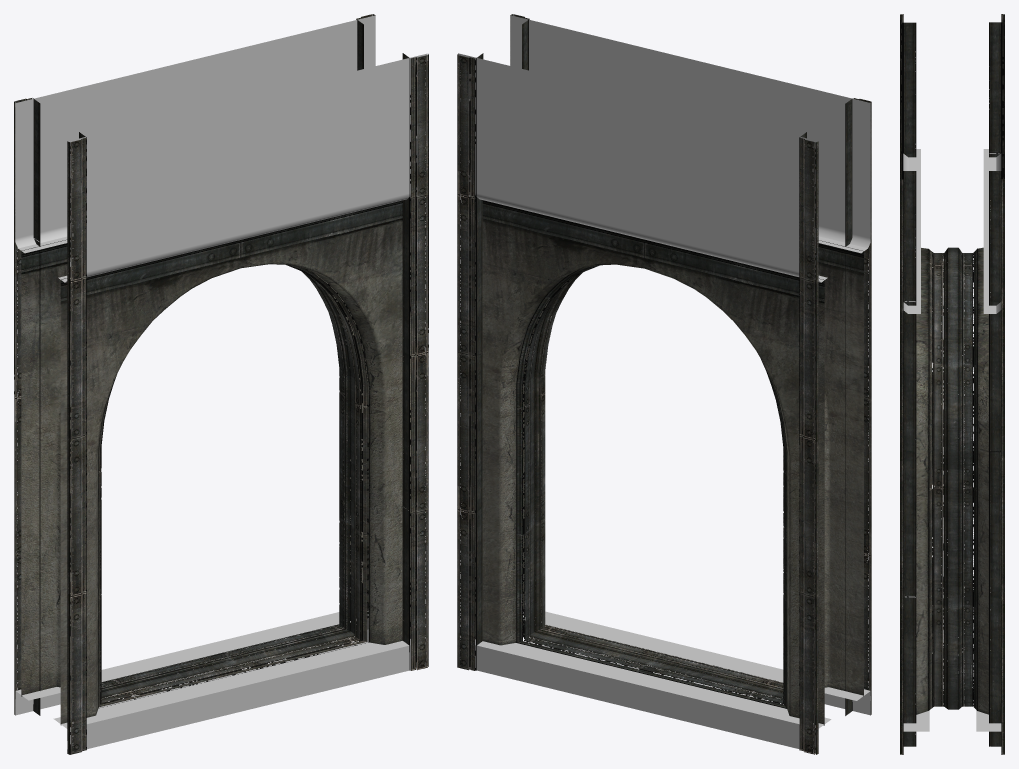
The model's file is tesla_modules1_doorframe_01.dae.
3 views of the same model, side by side, from view 1: azimuth 30°, elevation 25°; view 2: azimuth 150°, elevation 25°; view 3: azimuth 270°, elevation 25° (orthographic). The views are drawn at different scales.
Visible parts, largest first — view 1: dooframe_01_stone, doorframe_01_arch, doorframe_01_metal; view 2: dooframe_01_stone, doorframe_01_arch, doorframe_01_metal; view 3: doorframe_01_metal, doorframe_01_arch, dooframe_01_stone.
Part boxes in pixels (x1,y1,x2,y2): dooframe_01_stone: (15,15,427,751); doorframe_01_arch: (21,197,420,725); doorframe_01_metal: (14,14,428,754); dooframe_01_stone: (458,15,870,752); doorframe_01_arch: (465,196,863,725); doorframe_01_metal: (457,14,871,754); doorframe_01_metal: (900,14,1004,754); doorframe_01_arch: (916,247,988,714); dooframe_01_stone: (903,149,1001,731).
Size of what is drawn, in the model's own units: 4 by 6.5 by 1.07.
